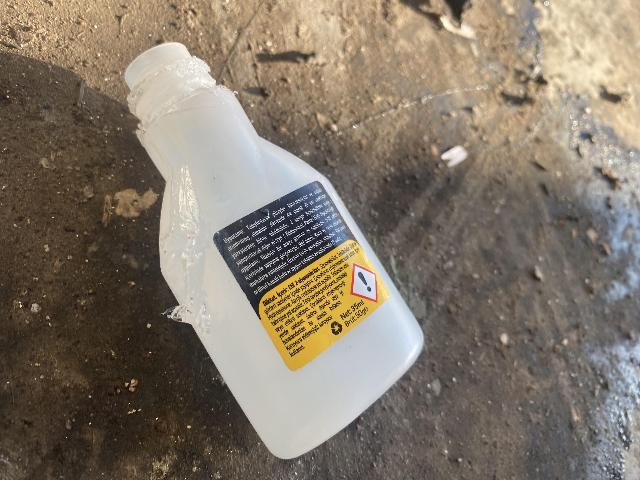Plastik: (124, 44, 429, 452)
